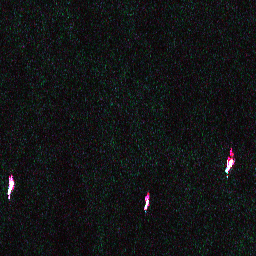ship: (223, 157, 236, 175), (5, 178, 15, 197), (143, 198, 150, 211)
